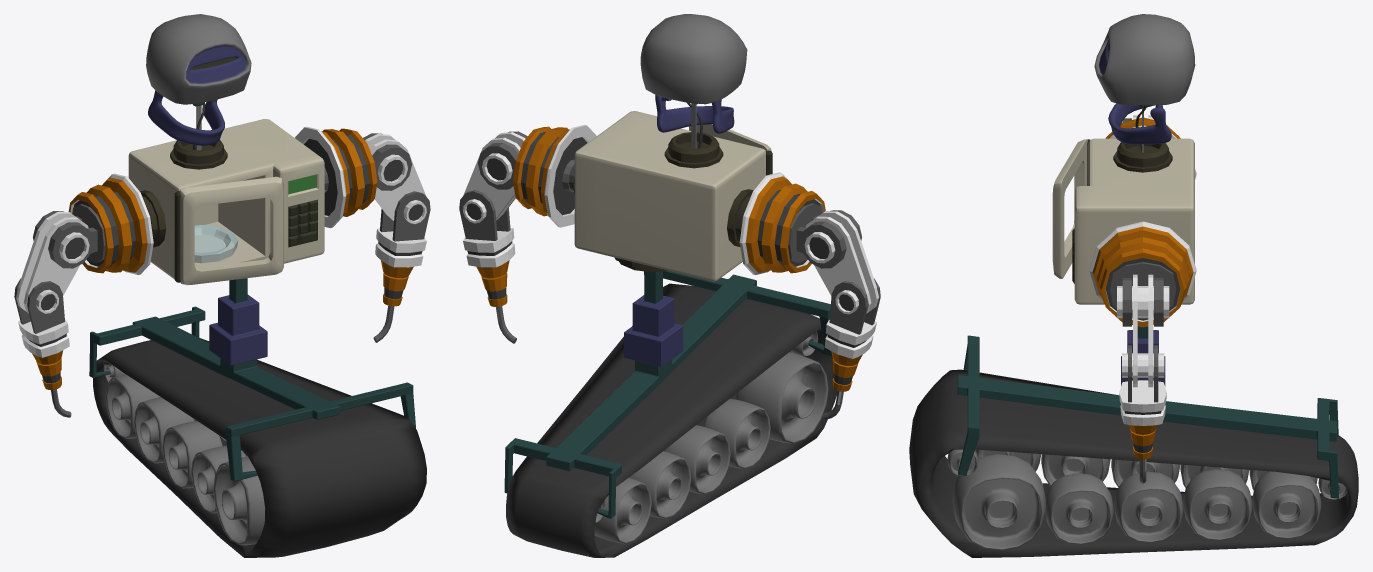
File: npcRobo6.fbx
3 renders of one model, left to right at view 1: azimuth 30°, elevation 25°; view 2: azimuth 150°, elevation 25°; view 3: azimuth 270°, elevation 25°, orthographic. The views are drawn at different scales.
Parts seen in each view (by area): view 1: npcRobo6; view 2: npcRobo6; view 3: npcRobo6.
Boxes of the visible parts, bbox=[...] form: npcRobo6: bbox=[14, 14, 430, 557]; npcRobo6: bbox=[459, 14, 880, 557]; npcRobo6: bbox=[909, 14, 1358, 557].
Bounding box in the file's own units: 60.59 × 68.1 × 57.03.
